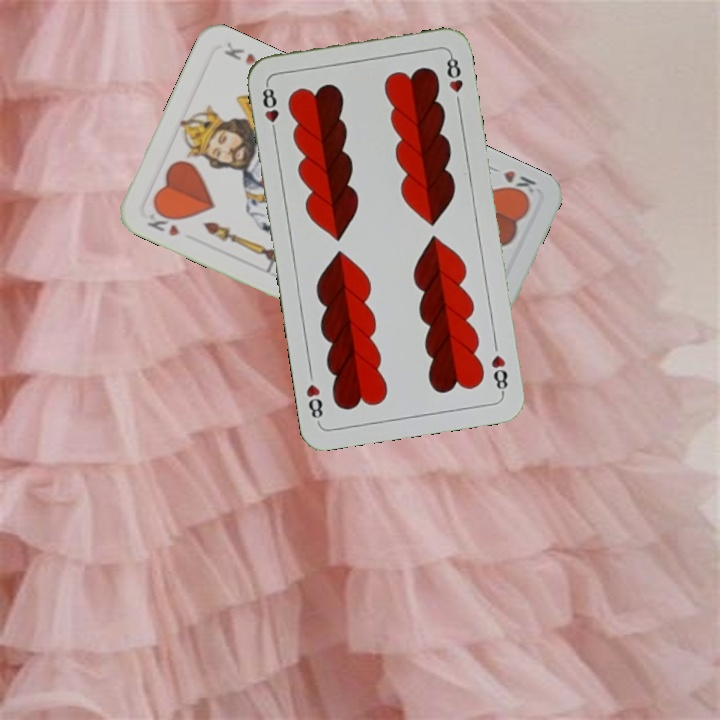H8: (258, 79, 282, 138), (487, 351, 510, 397)
HK: (496, 166, 540, 202), (143, 204, 183, 239)
